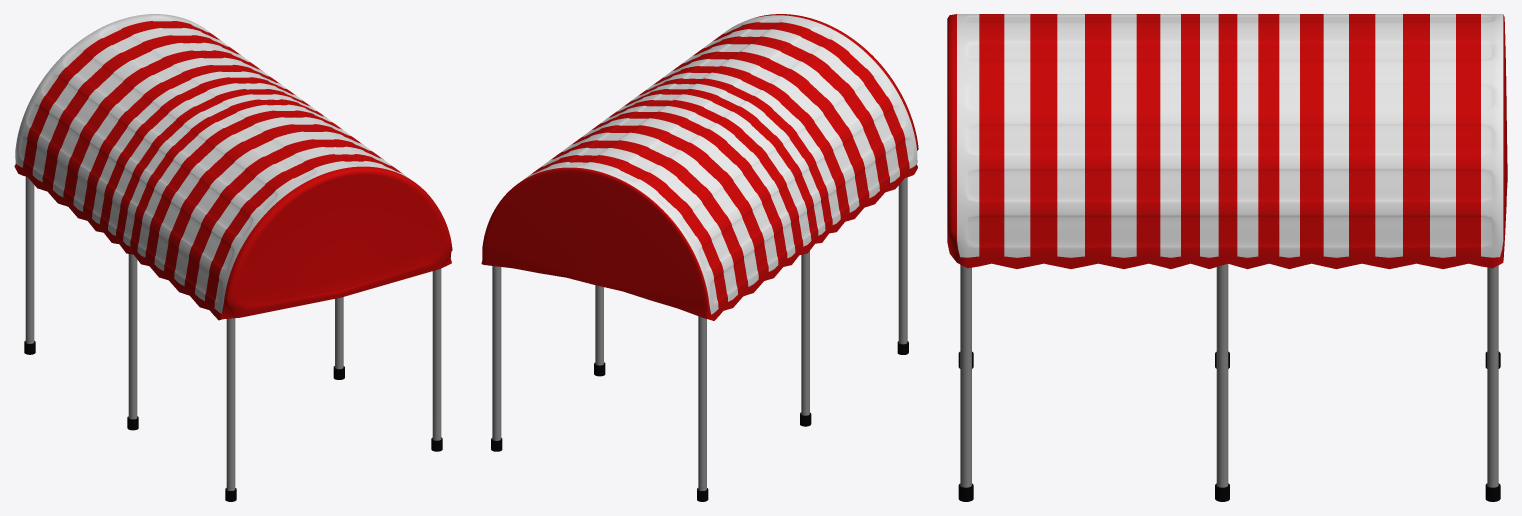
The model's file is fbxTent.fbx.
3 renders of one model, left to right at view 1: azimuth 30°, elevation 25°; view 2: azimuth 150°, elevation 25°; view 3: azimuth 270°, elevation 25°, orthographic. The views are drawn at different scales.
Visible parts, largest first — view 1: toldo, pals; view 2: toldo, pals; view 3: toldo, pals.
Part boxes in pixels (x1,y1,x2,y2): toldo: (14, 14, 452, 320); pals: (24, 176, 442, 501); toldo: (481, 14, 918, 320); pals: (491, 177, 908, 501); toldo: (947, 14, 1507, 269); pals: (958, 263, 1500, 501).
Size of the model in its own units: 5.72 by 7.32 by 9.24.
